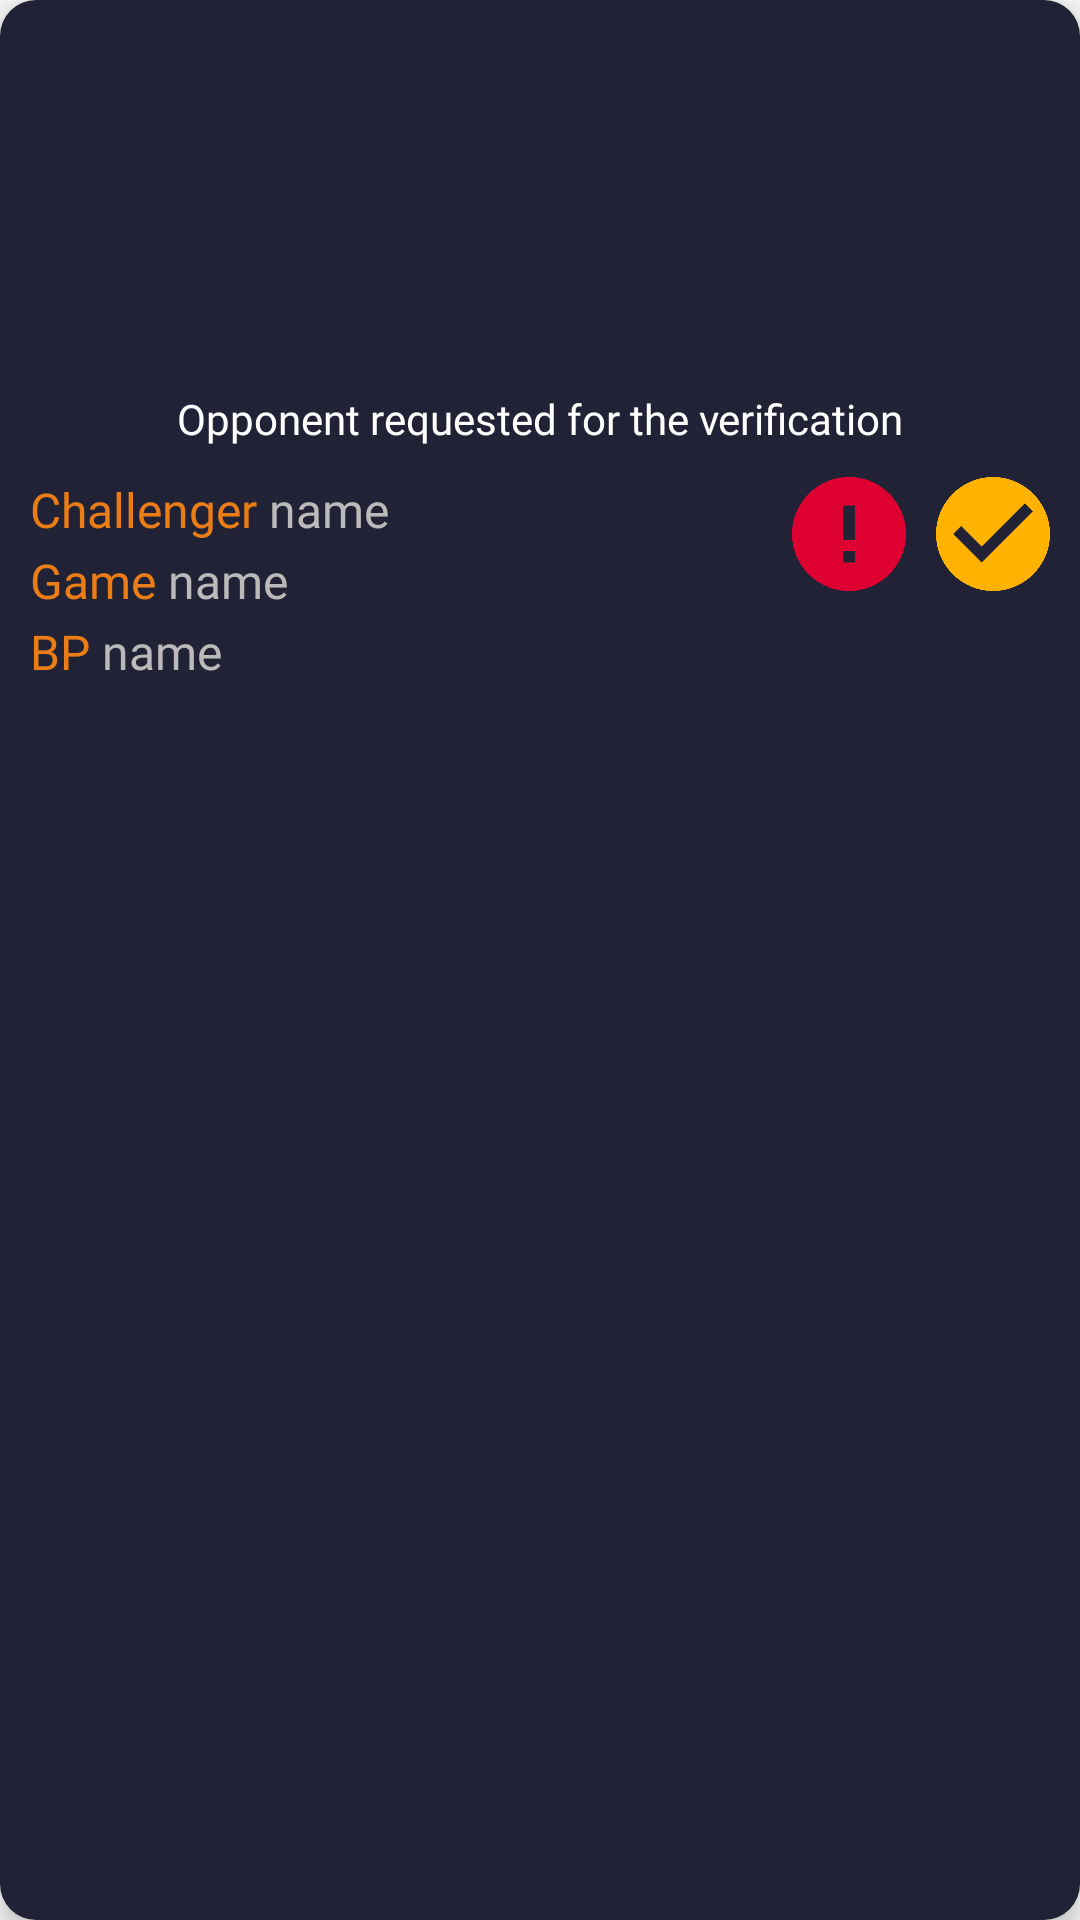

Icon bounding boxes for this 1080×1920 phone screenshot, format (x1, y1, x2, y2):
error: (792, 477, 906, 591)
tick: (936, 477, 1050, 591)
